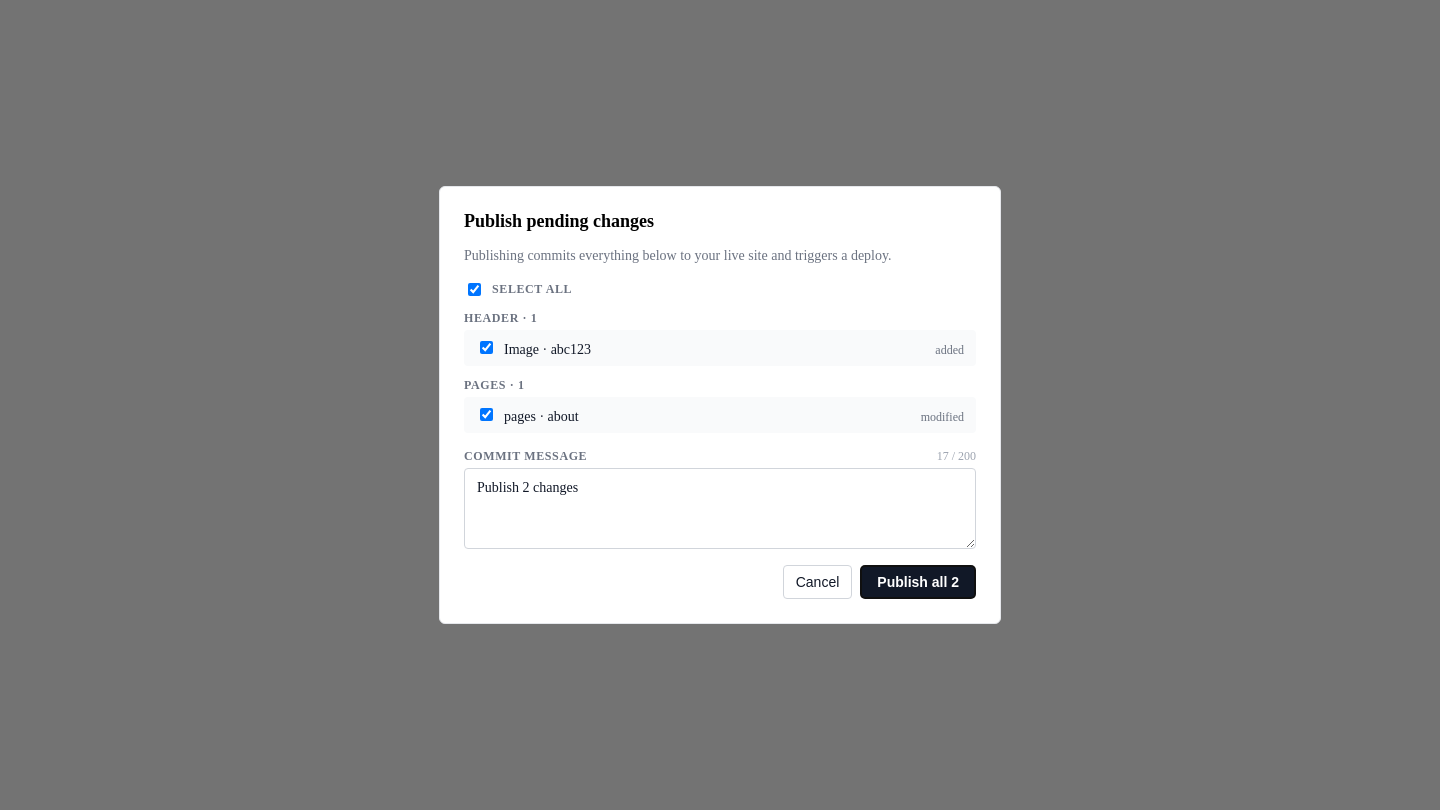
Test: PublishConfirmModal — per-item selection (ADR-012) › 'Select all' clears the selection and disables Publish
The image size is (1440, 810).
Click the checkbox labelled "Select all" at {"x": 474, "y": 290}, box 468,283 -> 481,296
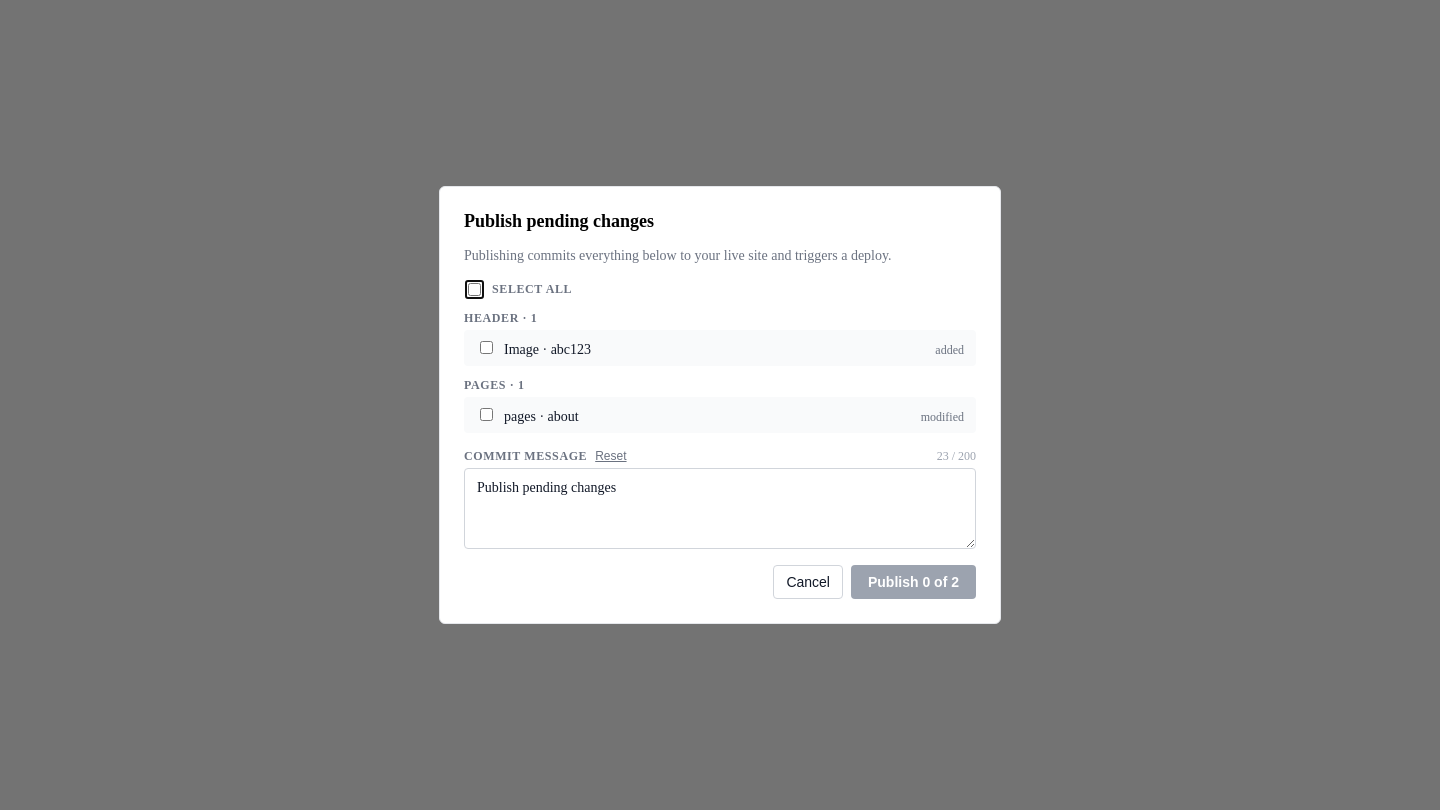
Result: the button "Publish 0 of 2" is disabled at 851,565 -> 976,599
